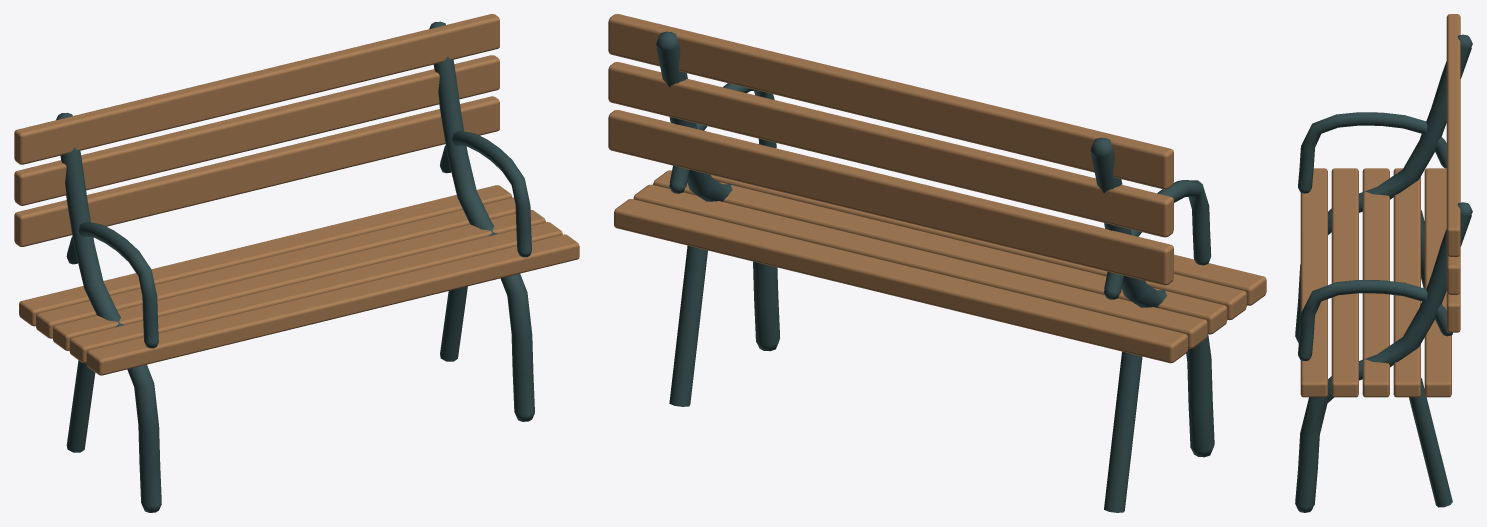
File: almanac-gardens-garden-bench-030ceeb2__22011.glb
3 renders of one model, left to right at view 1: azimuth 30°, elevation 25°; view 2: azimuth 150°, elevation 25°; view 3: azimuth 270°, elevation 25°, orthographic. The views are drawn at different scales.
Parts seen in each view (by area): view 1: garden-bench-oak, garden-bench-iron; view 2: garden-bench-oak, garden-bench-iron; view 3: garden-bench-oak, garden-bench-iron.
Part boxes in pixels (x1=…): garden-bench-oak: x1=14, y1=14, x2=579, y2=375; garden-bench-iron: x1=56, y1=21, x2=534, y2=512; garden-bench-oak: x1=608, y1=14, x2=1266, y2=363; garden-bench-iron: x1=656, y1=31, x2=1214, y2=512; garden-bench-oak: x1=1300, y1=14, x2=1460, y2=397; garden-bench-iron: x1=1295, y1=34, x2=1472, y2=512.
Size of the model in its own units: 1.65 by 1.1 by 0.5739.
